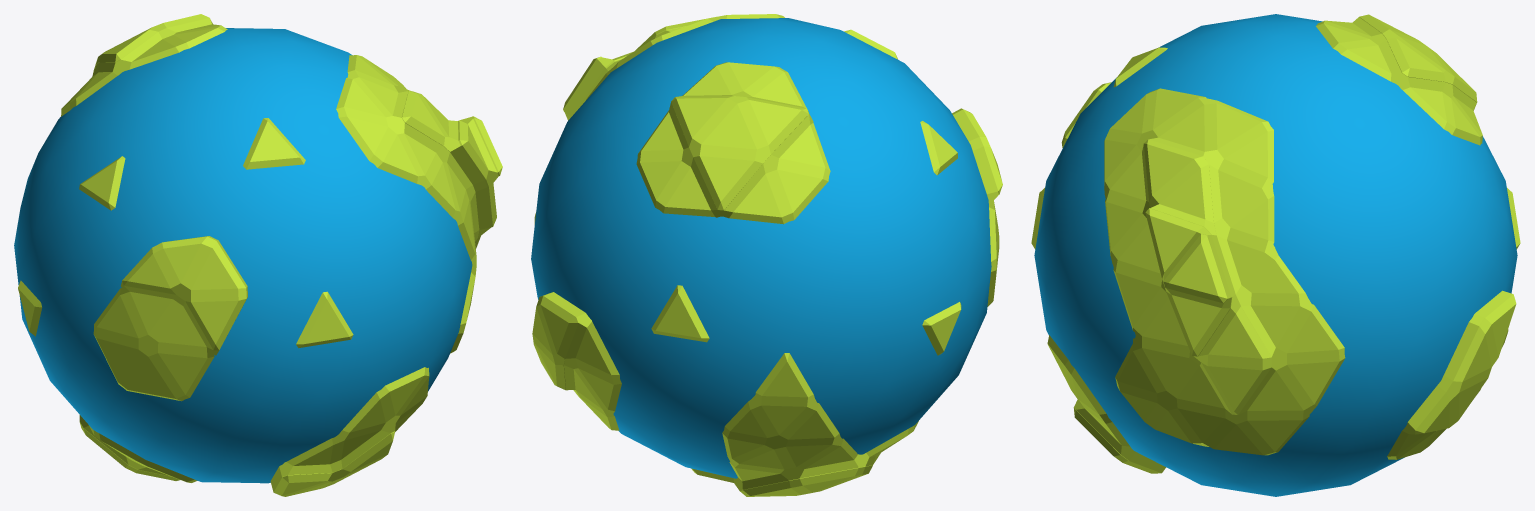
The model's file is model_ziemi.fbx.
3 renders of one model, left to right at view 1: azimuth 30°, elevation 25°; view 2: azimuth 150°, elevation 25°; view 3: azimuth 270°, elevation 25°, orthographic. The views are drawn at different scales.
Parts seen in each view (by area): view 1: woda, ziemia; view 2: woda, ziemia; view 3: woda, ziemia.
Part boxes in pixels (bbox=[...]): woda: bbox=[14, 28, 472, 483]; ziemia: bbox=[18, 14, 502, 496]; woda: bbox=[531, 18, 991, 478]; ziemia: bbox=[532, 14, 1002, 496]; woda: bbox=[1034, 14, 1517, 496]; ziemia: bbox=[1031, 14, 1520, 473].
Size of the model in its own units: 3.87 by 3.7 by 3.68.
